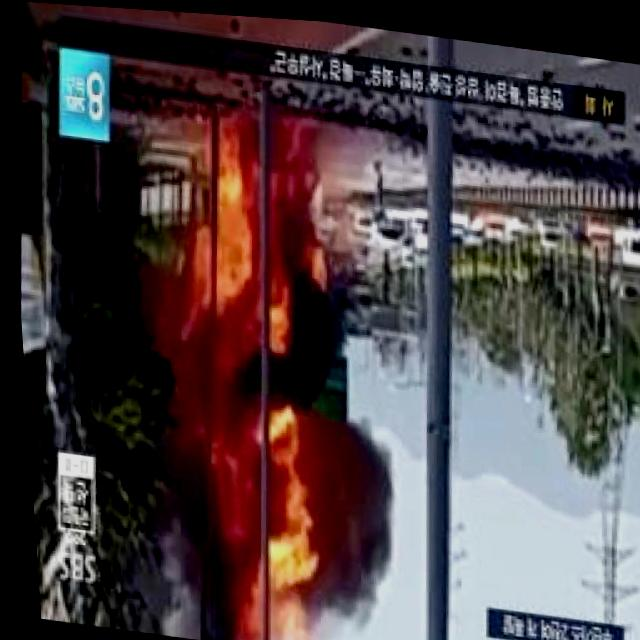helmet: (165, 108, 301, 369), (194, 406, 321, 622)
